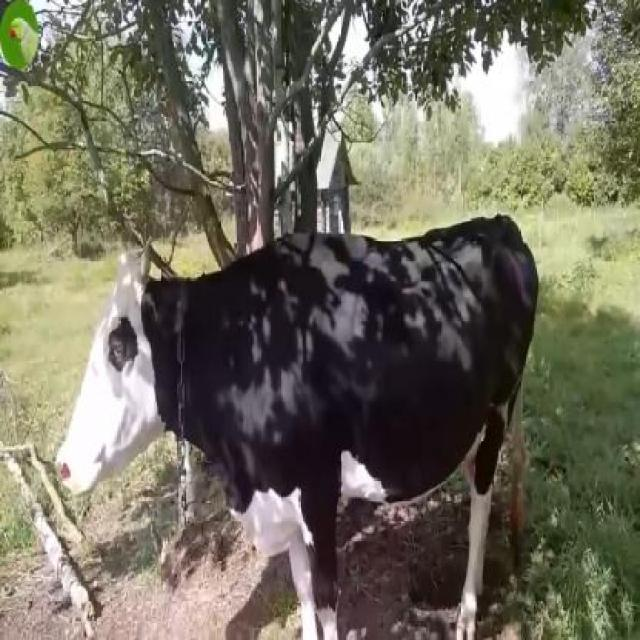Cow: (52, 214, 538, 638)
